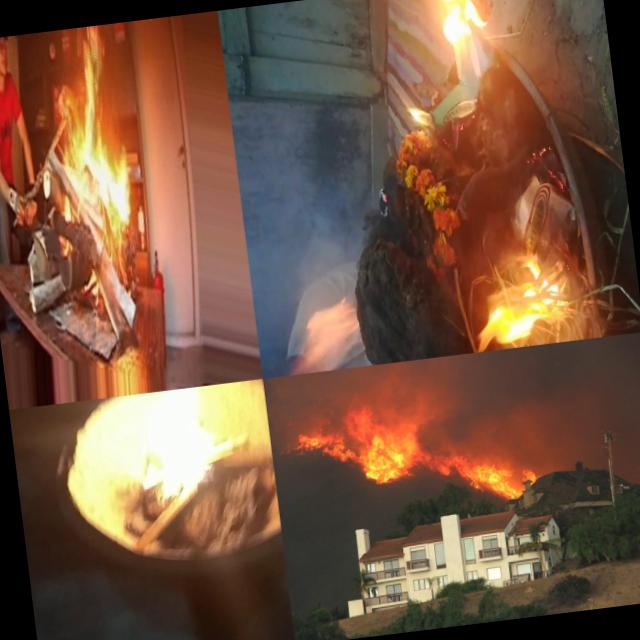fire: (42, 22, 146, 248), (88, 383, 240, 522), (222, 37, 278, 173), (346, 397, 419, 488), (292, 411, 352, 469), (467, 447, 525, 505), (412, 316, 477, 359), (376, 260, 406, 323), (422, 454, 470, 480), (521, 462, 541, 489), (277, 441, 296, 455)
smoke: (257, 0, 334, 173), (406, 348, 518, 459), (507, 338, 606, 463), (591, 330, 640, 429), (262, 368, 346, 421), (342, 360, 409, 404)
